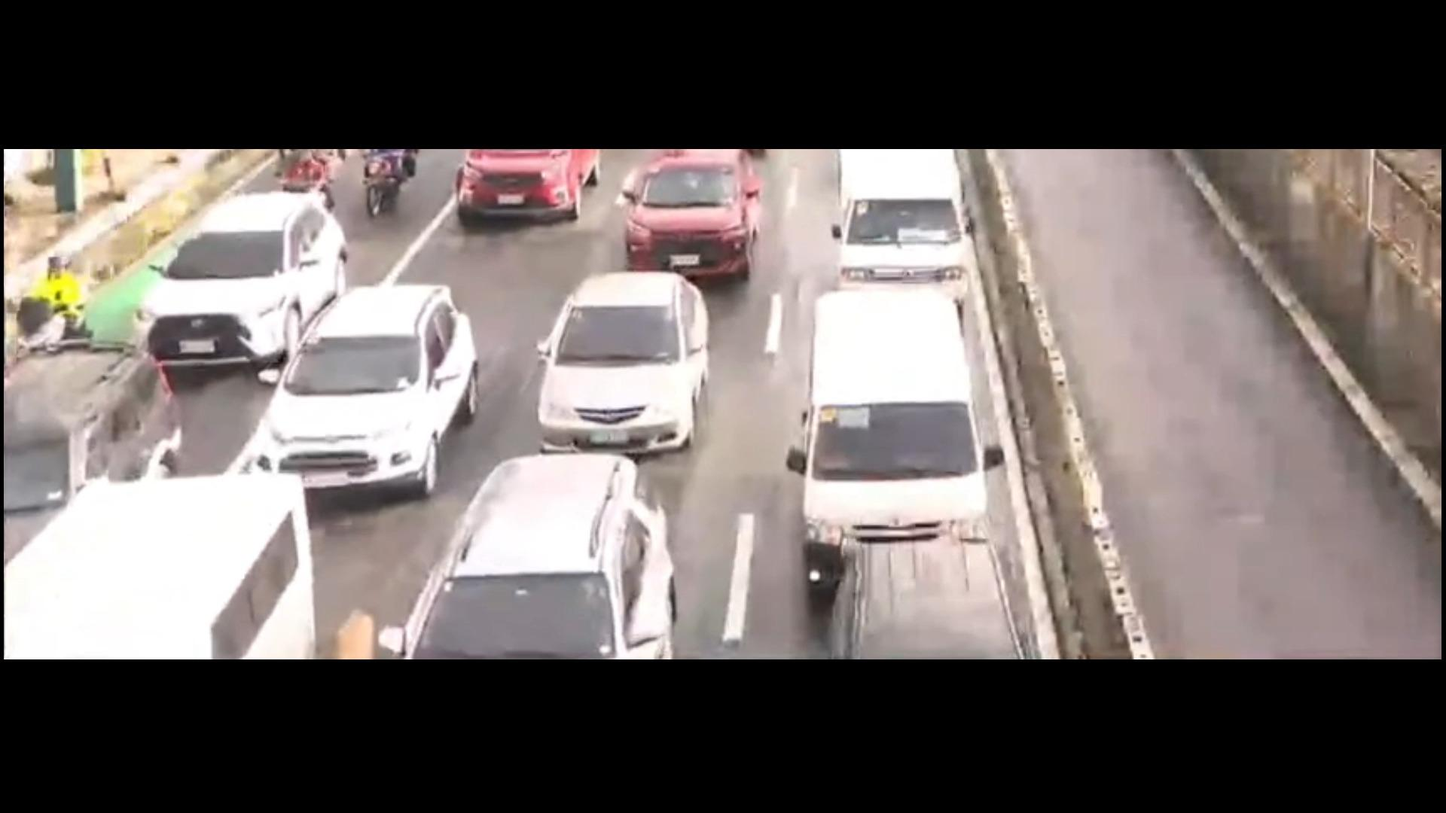Motorcycle: (341, 148, 447, 213), (32, 254, 96, 340), (277, 143, 340, 202)
Multicab: (0, 467, 337, 658), (791, 143, 1000, 292)
SUV: (390, 460, 680, 652), (256, 276, 468, 494), (138, 187, 351, 371), (0, 360, 168, 553), (608, 149, 767, 277), (448, 151, 611, 221)
Sedan: (501, 260, 737, 453)
Van: (782, 281, 1013, 586)
